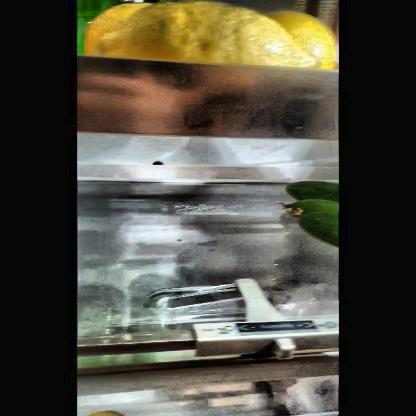lemon: (103, 0, 317, 69)
